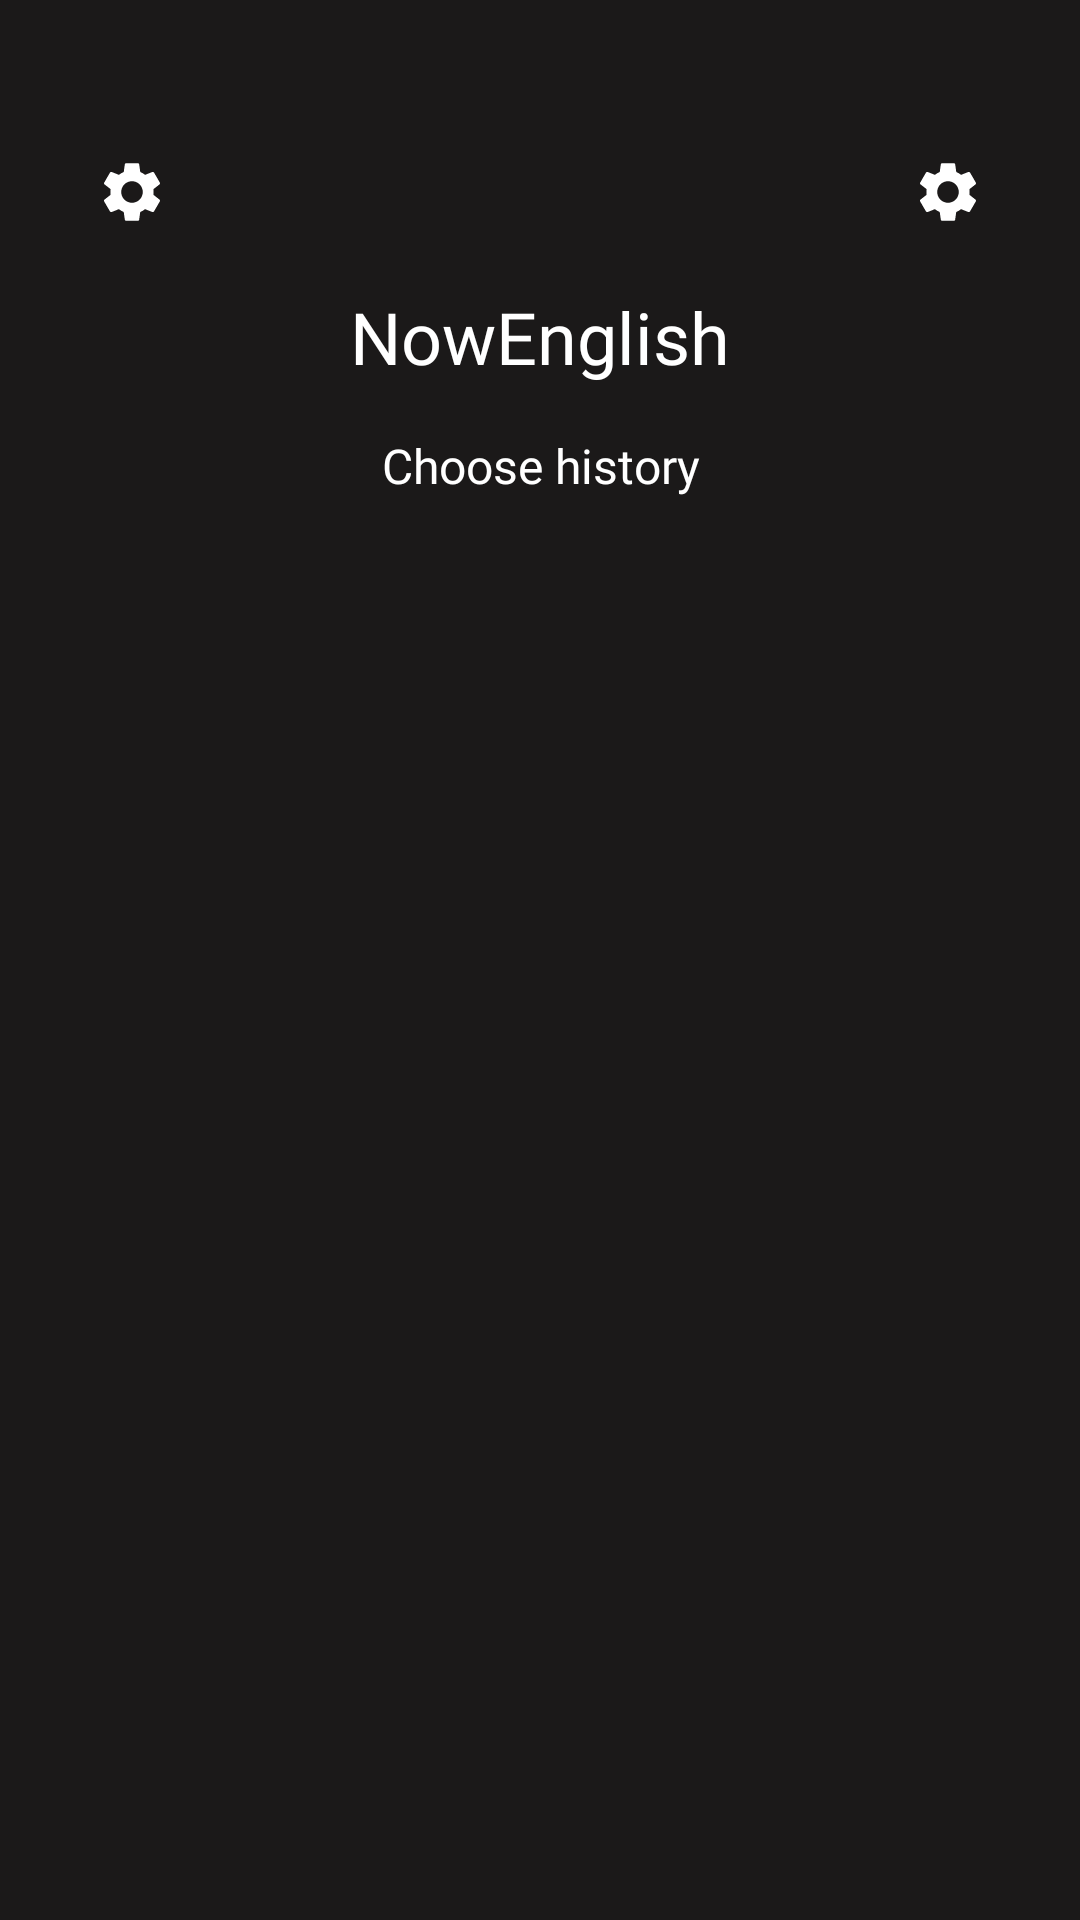

Icon click points for this 1080×1920 phone screenshot, format (x=x, y=y):
settings: (x=132, y=192), (x=948, y=192)
